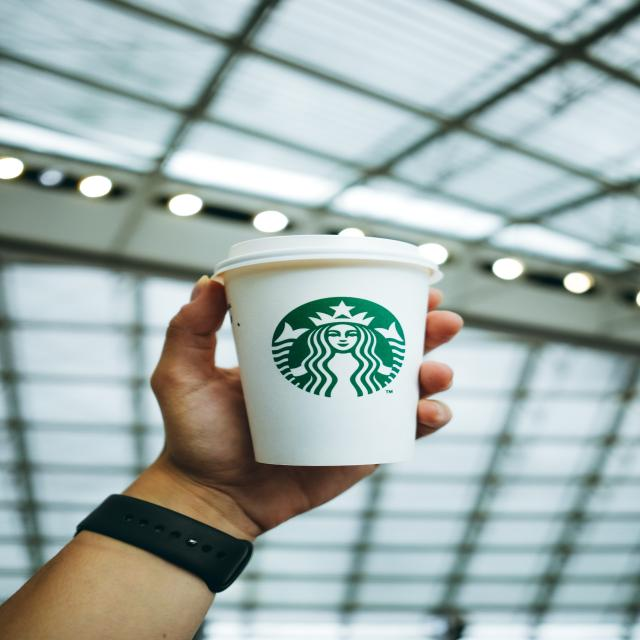cup: (209, 233, 448, 468)
